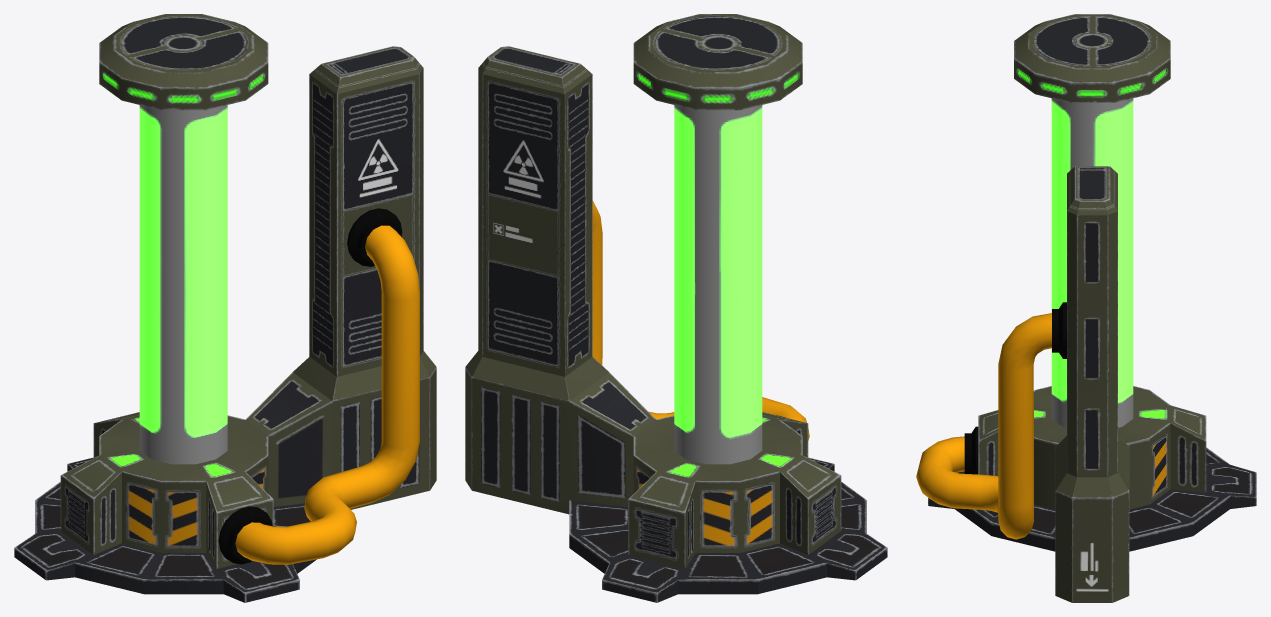
The picture shows the model from 3 angles, left to right: view 1: azimuth 30°, elevation 25°; view 2: azimuth 150°, elevation 25°; view 3: azimuth 270°, elevation 25°; orthographic projection. The views are drawn at different scales.
Visible parts, largest first — view 1: energy_box; view 2: energy_box; view 3: energy_box.
Boxes of the visible parts, box(x1,y1,x2,y2) form: energy_box: box(14, 14, 436, 602); energy_box: box(465, 14, 887, 602); energy_box: box(916, 14, 1256, 602).
Size of what is drawn, in the model's own units: 821 by 968 by 661.
Materials: 1 (1 with a texture image).
